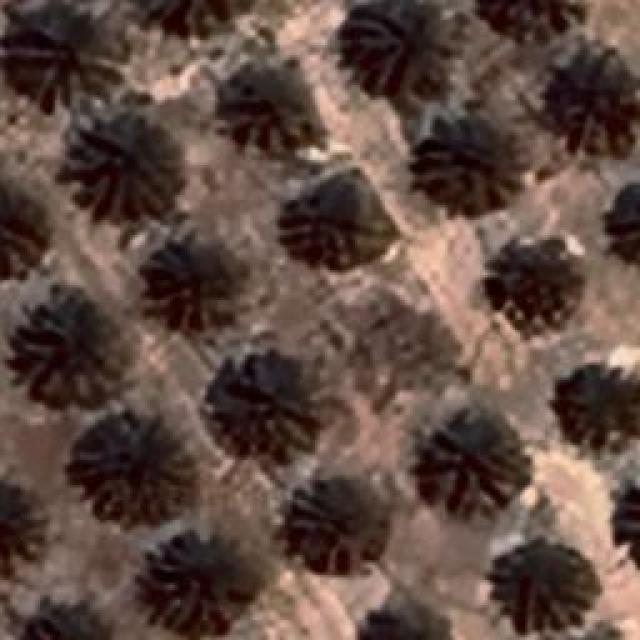PalmTree: (62, 98, 182, 220), (208, 352, 320, 462), (82, 425, 208, 520), (415, 105, 525, 213), (420, 405, 522, 520), (142, 532, 255, 632), (351, 0, 454, 100), (15, 302, 120, 400), (3, 6, 108, 96), (276, 488, 394, 566), (222, 61, 322, 149), (552, 48, 640, 144), (548, 358, 636, 450), (486, 242, 579, 326), (291, 180, 381, 260), (155, 247, 245, 325), (506, 556, 586, 629), (0, 183, 52, 278), (130, 0, 258, 38), (0, 472, 45, 568), (597, 472, 640, 570), (482, 0, 569, 42), (356, 610, 456, 640), (23, 610, 108, 640), (607, 182, 640, 252)
